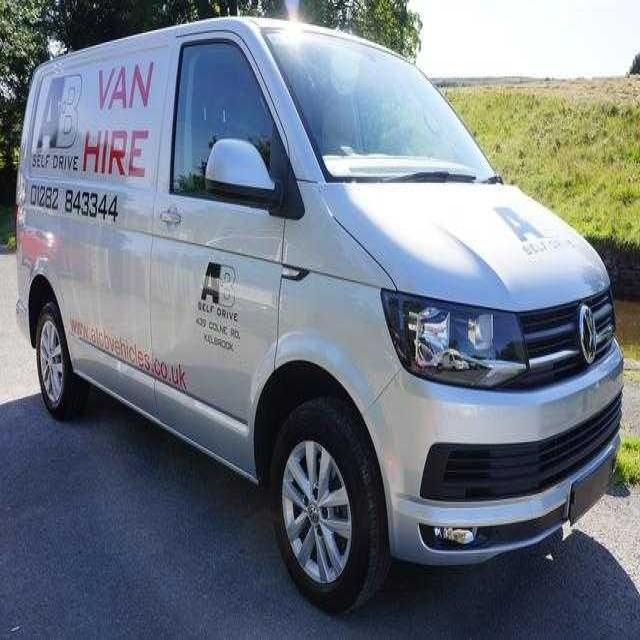Van: (14, 10, 625, 626)
